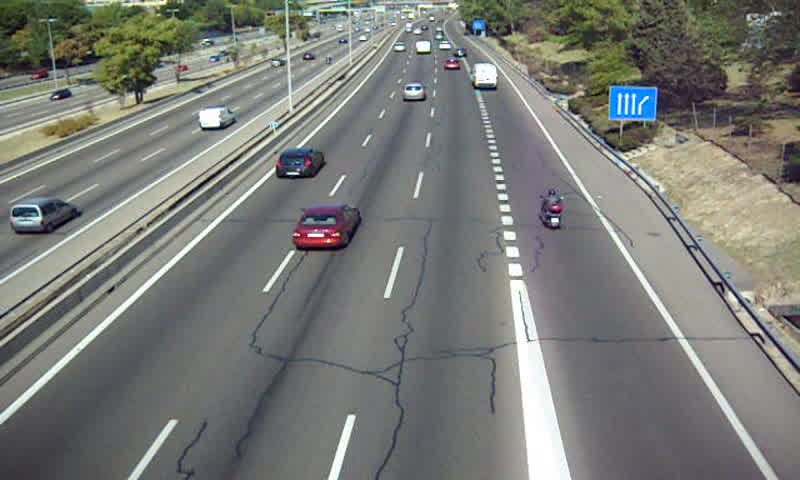car: (292, 203, 361, 248), (276, 146, 325, 176), (400, 82, 424, 102), (441, 58, 461, 73), (438, 40, 453, 51), (392, 42, 405, 52), (454, 48, 466, 58)
motorcycle: (539, 188, 563, 231)
van: (468, 62, 499, 89), (414, 40, 429, 54)
